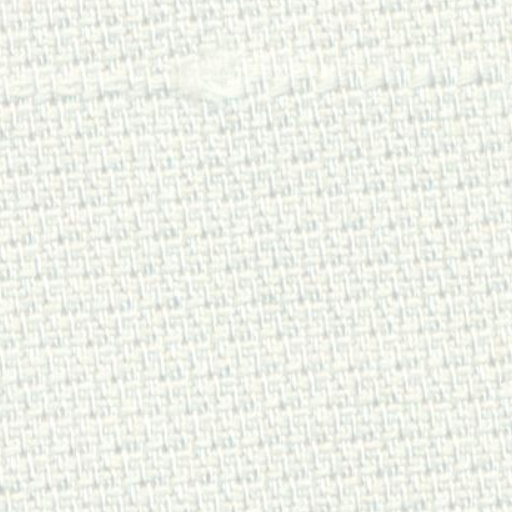DaiSha: (16, 46, 496, 110)
